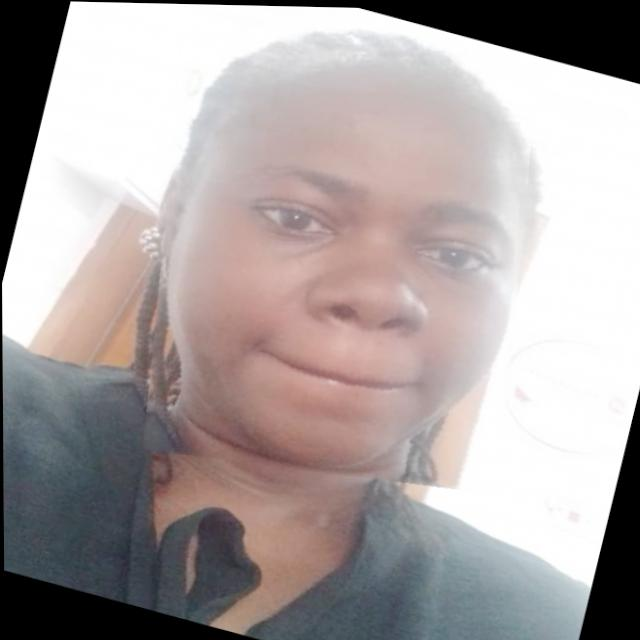happy: (96, 2, 586, 526)
